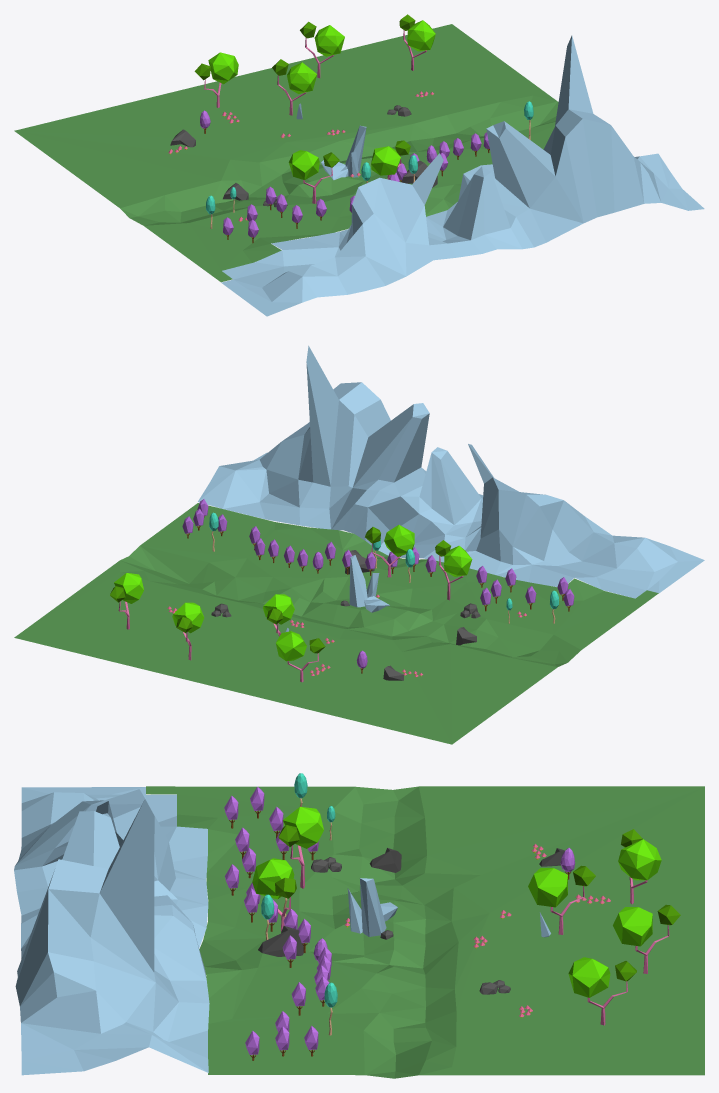
The picture shows the model from 3 angles, top to bottom: view 1: azimuth 30°, elevation 25°; view 2: azimuth 150°, elevation 25°; view 3: azimuth 270°, elevation 25°; orthographic projection. The views are drawn at different scales.
Parts seen in each view (by area): view 1: Plane, Plane.001, Icosphere.037, Icosphere.039, Icosphere.003, Icosphere.038, Icosphere.036, Rock4, Icosphere.002; view 2: Plane, Plane.001, Rock4, Icosphere.038, Icosphere.002, Icosphere.003, Icosphere.036, Icosphere.037, Icosphere.039; view 3: Plane, Plane.001, Icosphere.036, Icosphere.037, Icosphere.039, Rock4, Icosphere.038, Icosphere.003, Icosphere.002, Rock3, Rock3.002.
Boxes of the visible parts, box(x1,y1,x2,y2) form: Plane: box(14, 24, 558, 282); Plane.001: box(221, 35, 704, 316); Icosphere.037: box(300, 21, 344, 78); Icosphere.039: box(272, 59, 317, 115); Icosphere.003: box(288, 150, 339, 203); Icosphere.038: box(194, 52, 238, 107); Icosphere.036: box(399, 14, 435, 70); Rock4: box(321, 125, 366, 180); Icosphere.002: box(371, 140, 410, 179); Plane: box(14, 503, 658, 744); Plane.001: box(198, 345, 704, 598); Rock4: box(349, 555, 389, 612); Icosphere.038: box(276, 631, 325, 682); Icosphere.002: box(365, 525, 414, 577); Icosphere.003: box(435, 540, 472, 600); Icosphere.036: box(110, 573, 143, 629); Icosphere.037: box(172, 602, 204, 660); Icosphere.039: box(263, 594, 294, 636); Plane: box(146, 786, 704, 1078); Plane.001: box(14, 787, 209, 1075); Icosphere.036: box(568, 957, 636, 1025); Icosphere.037: box(613, 904, 680, 973); Icosphere.039: box(528, 865, 595, 934); Rock4: box(347, 878, 397, 936); Icosphere.038: box(618, 829, 661, 904); Icosphere.003: box(278, 806, 323, 888); Icosphere.002: box(252, 858, 296, 931); Rock3: box(258, 925, 303, 956); Rock3.002: box(369, 848, 401, 872).
Size of the model in its own units: 5404 by 2081 by 5454.
